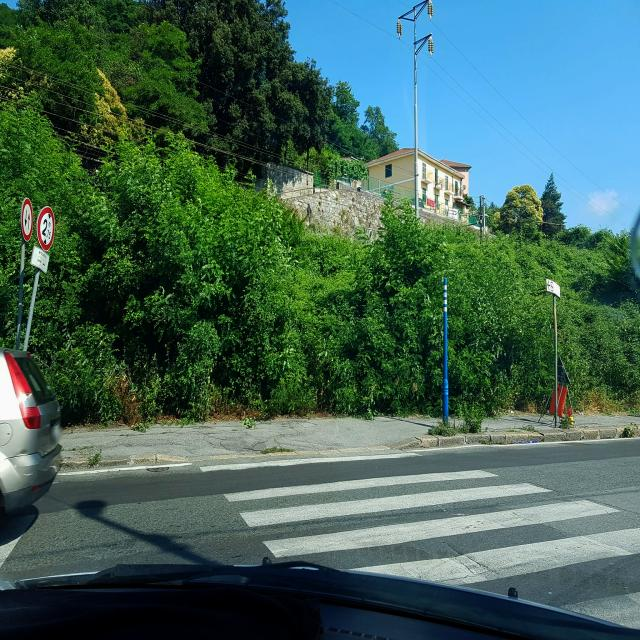car: (0, 343, 62, 533)
